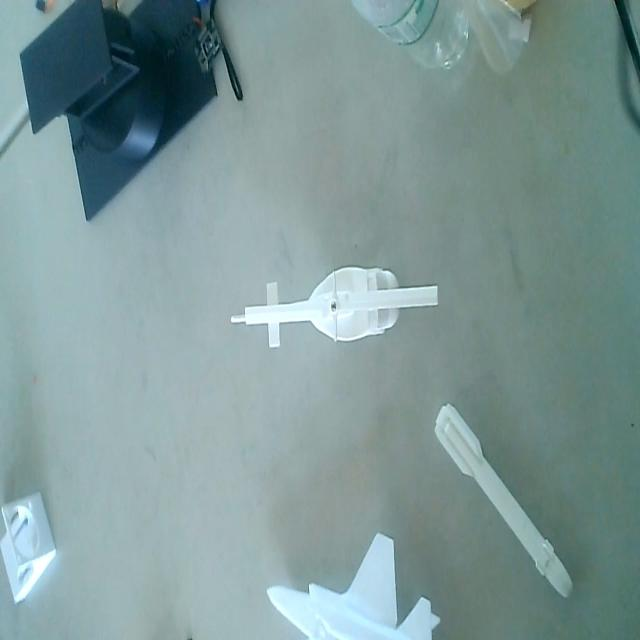Helicopter: (226, 261, 444, 353)
Jet: (264, 530, 443, 640)
Rocket: (433, 394, 575, 604)
